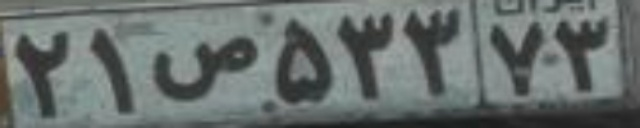1: (82, 27, 135, 114)
2: (15, 30, 75, 119)
3: (333, 13, 395, 100), (402, 8, 461, 95), (555, 17, 607, 91)
5: (273, 18, 333, 103)
7: (488, 21, 545, 96)
saat: (148, 35, 260, 100)
